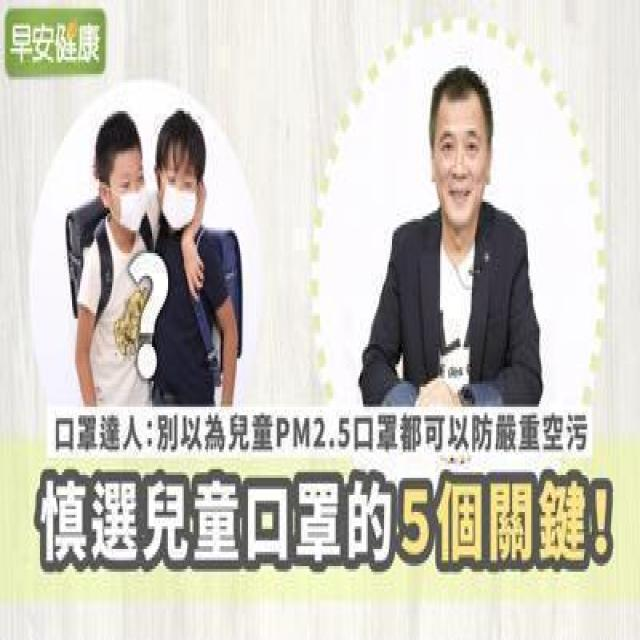face_mask: (158, 160, 197, 230), (110, 162, 148, 231)
face_nomask: (432, 120, 486, 224)
hand_noglove: (180, 245, 207, 307)
head_nohelmet: (422, 65, 490, 131), (93, 114, 142, 170), (152, 114, 205, 165)
